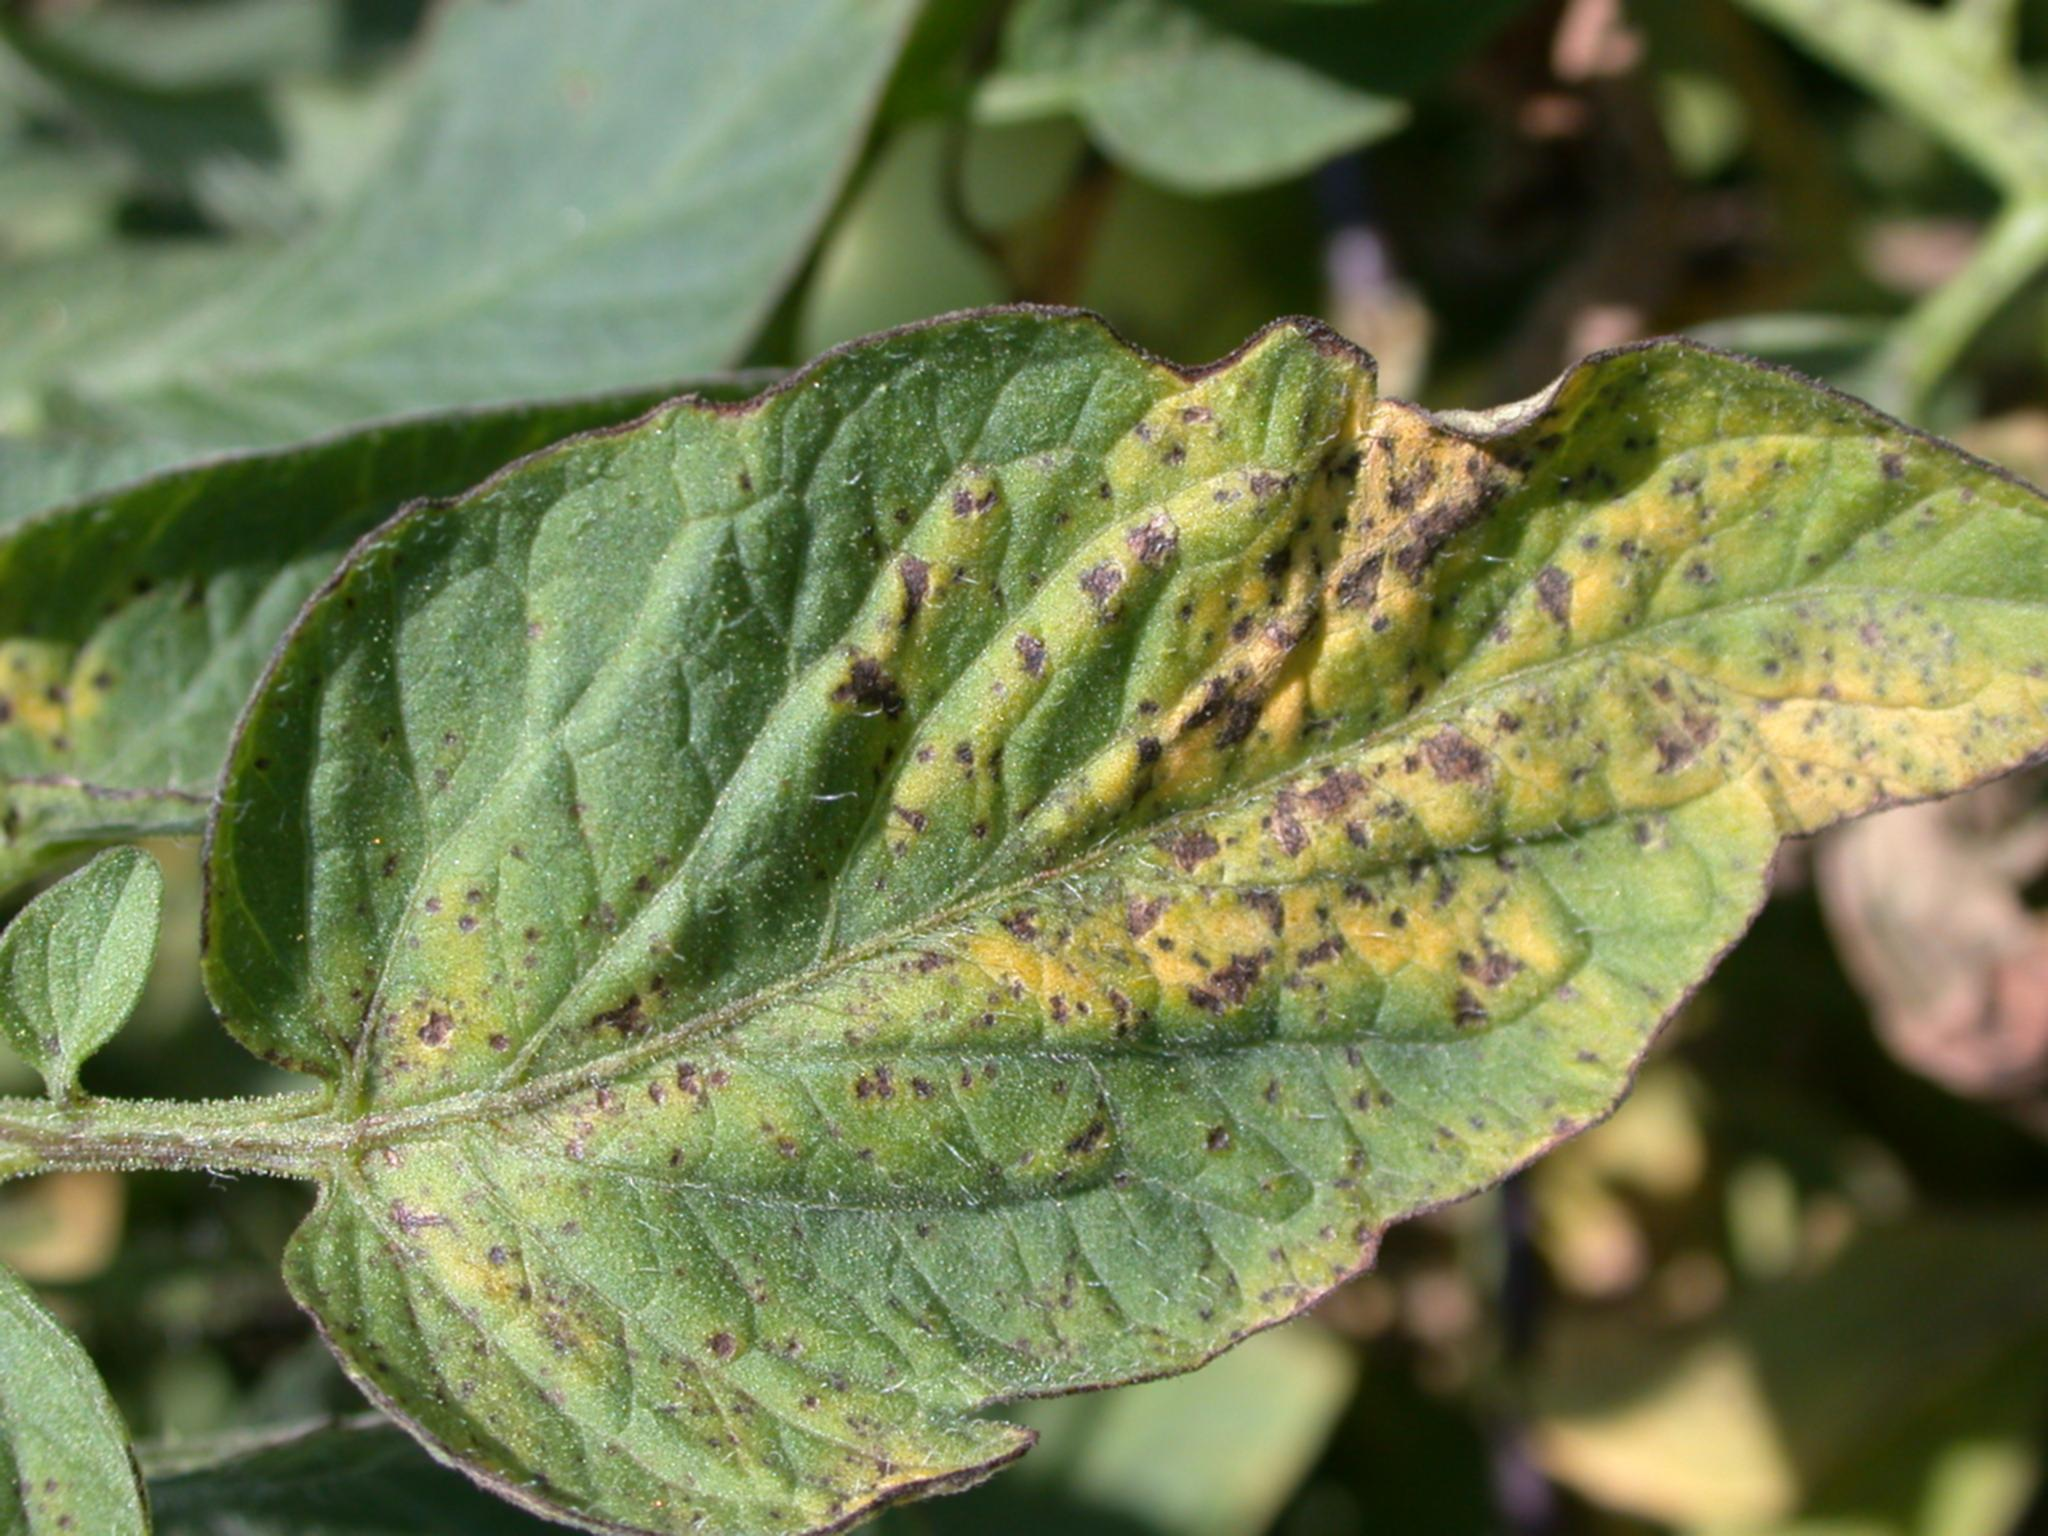Tomato leaf bacterial spot: (185, 337, 2042, 1507)
